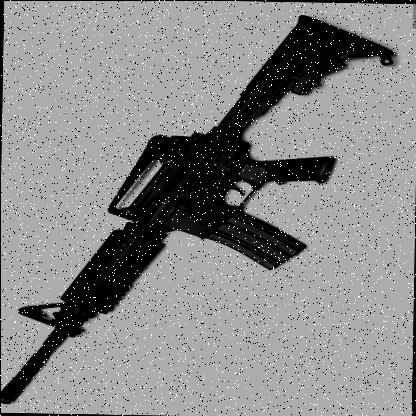rifle: (0, 11, 396, 413)
